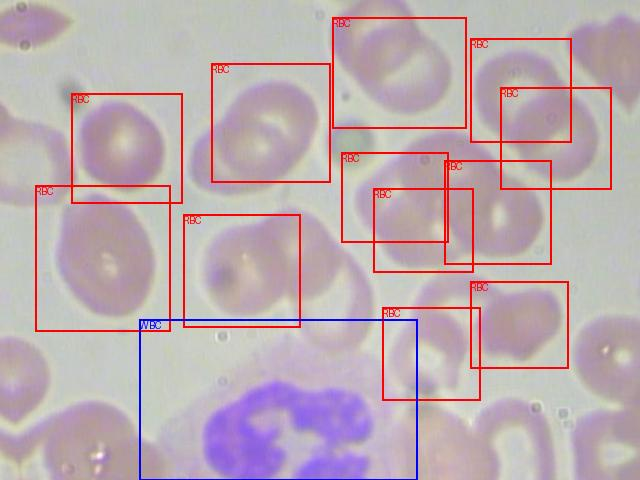RBC: (35, 185, 170, 331), (332, 17, 466, 128), (211, 63, 330, 182), (183, 214, 300, 327), (71, 93, 182, 203), (500, 87, 611, 189), (444, 160, 551, 264), (470, 38, 571, 142), (341, 152, 448, 242), (382, 307, 480, 400), (470, 281, 568, 368), (373, 188, 473, 272)
WBC: (139, 319, 417, 480)
